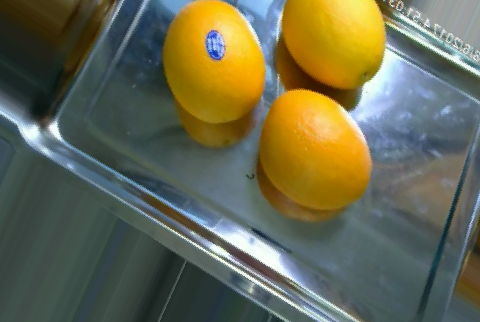Orange: (256, 85, 373, 209), (163, 0, 265, 124), (280, 0, 386, 89)
